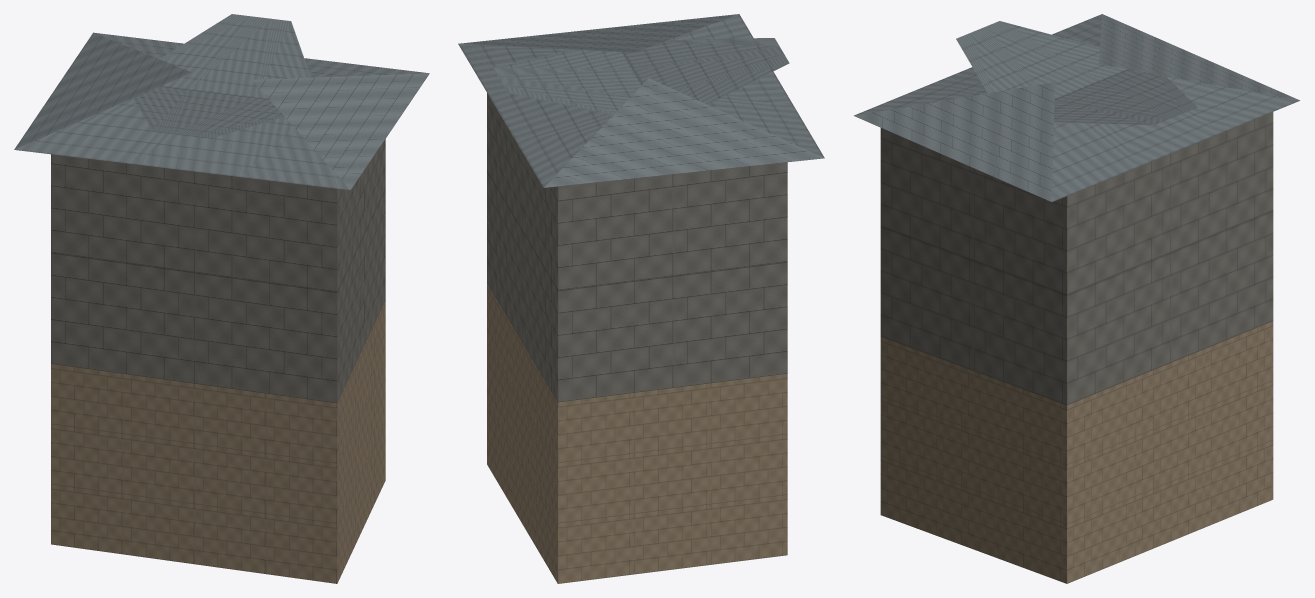
File: bld_c44_32_254.gltf
The picture shows the model from 3 angles, left to right: view 1: azimuth 30°, elevation 25°; view 2: azimuth 150°, elevation 25°; view 3: azimuth 270°, elevation 25°; orthographic projection.
Visible parts, largest first — view 1: bld_c44_32_254; view 2: bld_c44_32_254; view 3: bld_c44_32_254.
Part boxes in pixels (bbox=[...]): bld_c44_32_254: bbox=[14, 14, 429, 583]; bld_c44_32_254: bbox=[458, 14, 824, 583]; bld_c44_32_254: bbox=[854, 14, 1299, 583].
Bounding box in the file's own units: 11.54 × 12.4 × 11.57.
3 materials, 3 textured.
